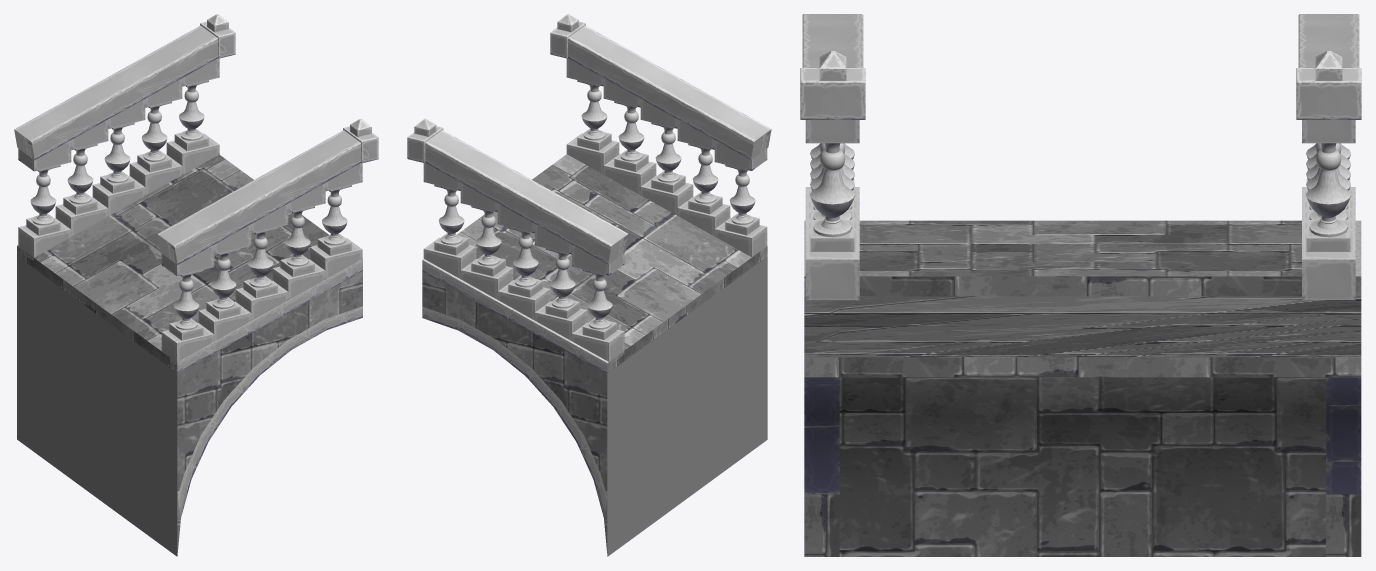
Rendered from Puente_balostres_Arco.fbx.
3 renders of one model, left to right at view 1: azimuth 30°, elevation 25°; view 2: azimuth 150°, elevation 25°; view 3: azimuth 270°, elevation 25°, orthographic. The views are drawn at different scales.
Visible parts, largest first — view 1: Puente_Balostres_arco_LOD0; view 2: Puente_Balostres_arco_LOD0; view 3: Puente_Balostres_arco_LOD0.
Boxes of the visible parts, x1,y1,x2,y2 form: Puente_Balostres_arco_LOD0: (14, 14, 378, 556); Puente_Balostres_arco_LOD0: (407, 14, 771, 556); Puente_Balostres_arco_LOD0: (800, 14, 1361, 556).
Size of what is drawn, in the model's own units: 220 by 397 by 302.
